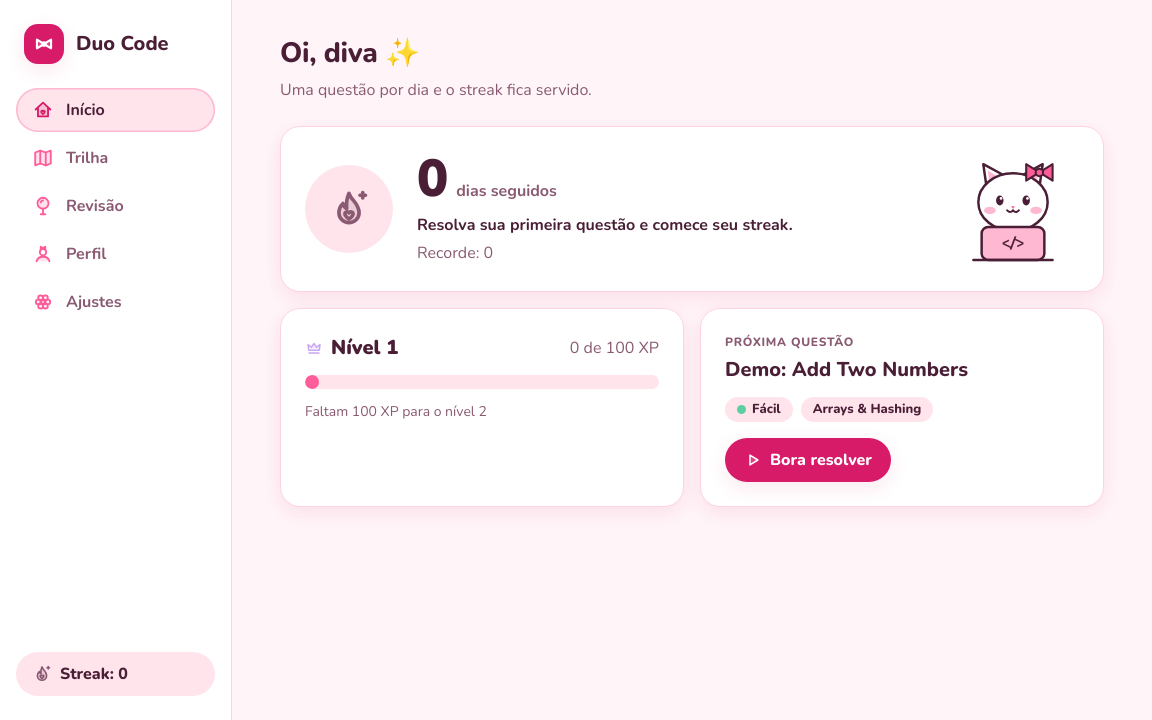
Test: navegação (001 CA-4) › cada item do menu leva à sua rota e fica destacado
Click the link "Trilha" at (70, 158), box 32,147 -> 108,169
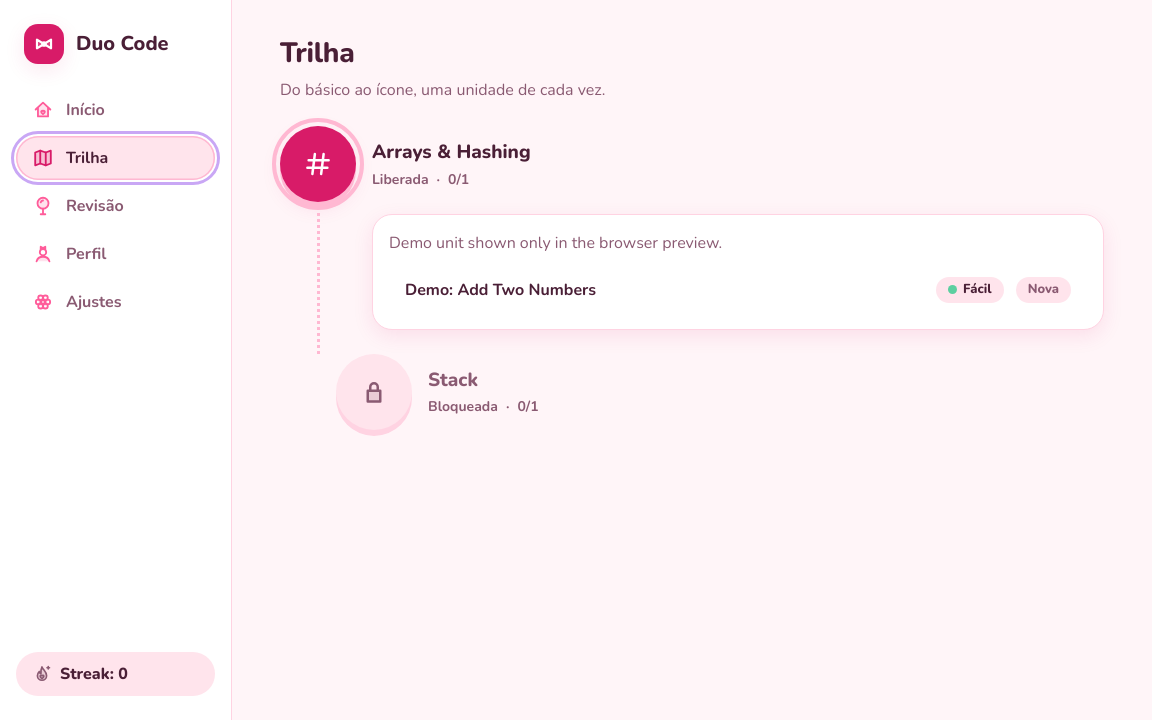
Expected: the heading reads "Trilha", 280,34 -> 354,72
Click the link "Revisão" at (78, 206), box 32,195 -> 124,217
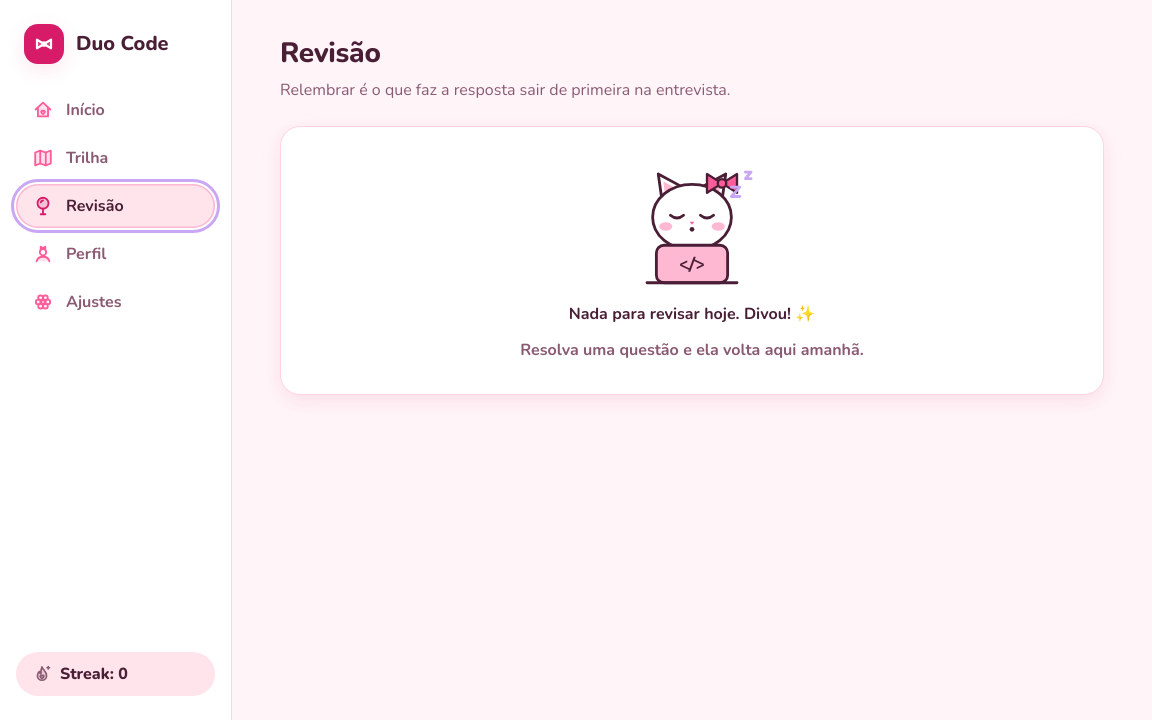
Expected: the heading reads "Revisão", 280,34 -> 381,72
Click the link "Perfil" at (69, 254), box 32,243 -> 106,265
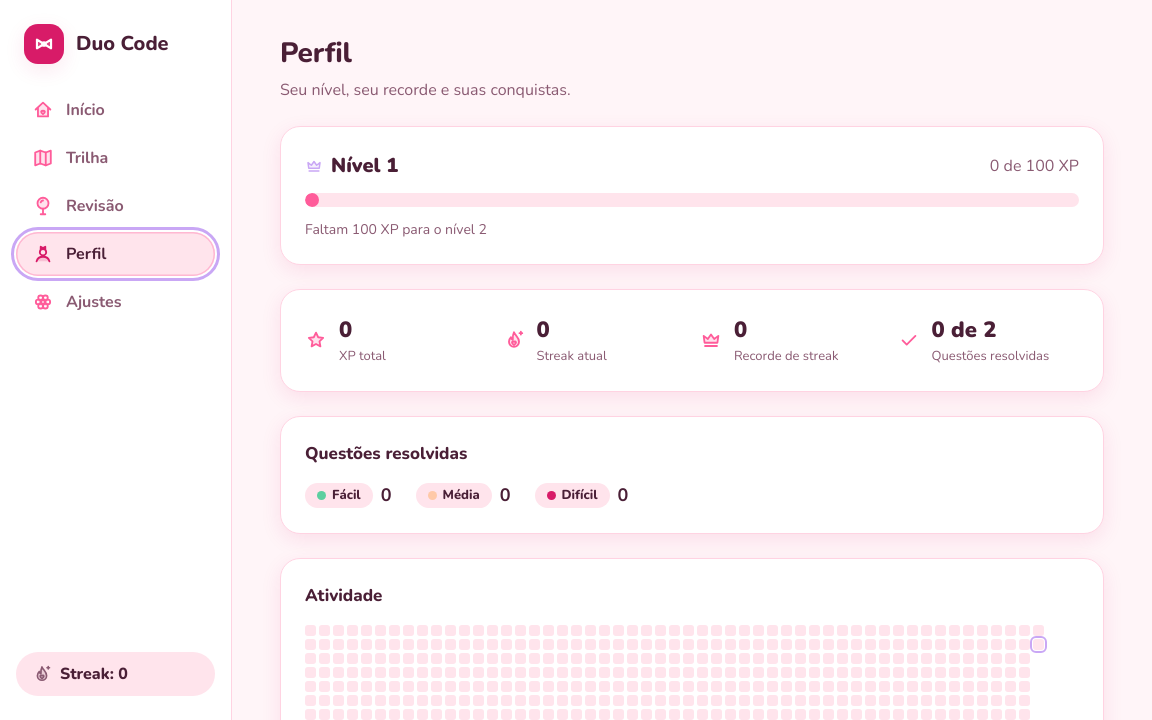
Expected: the heading "Perfil" is shown, 280,34 -> 351,72
Click the link "Ajustes" at (77, 302), box 32,291 -> 122,313
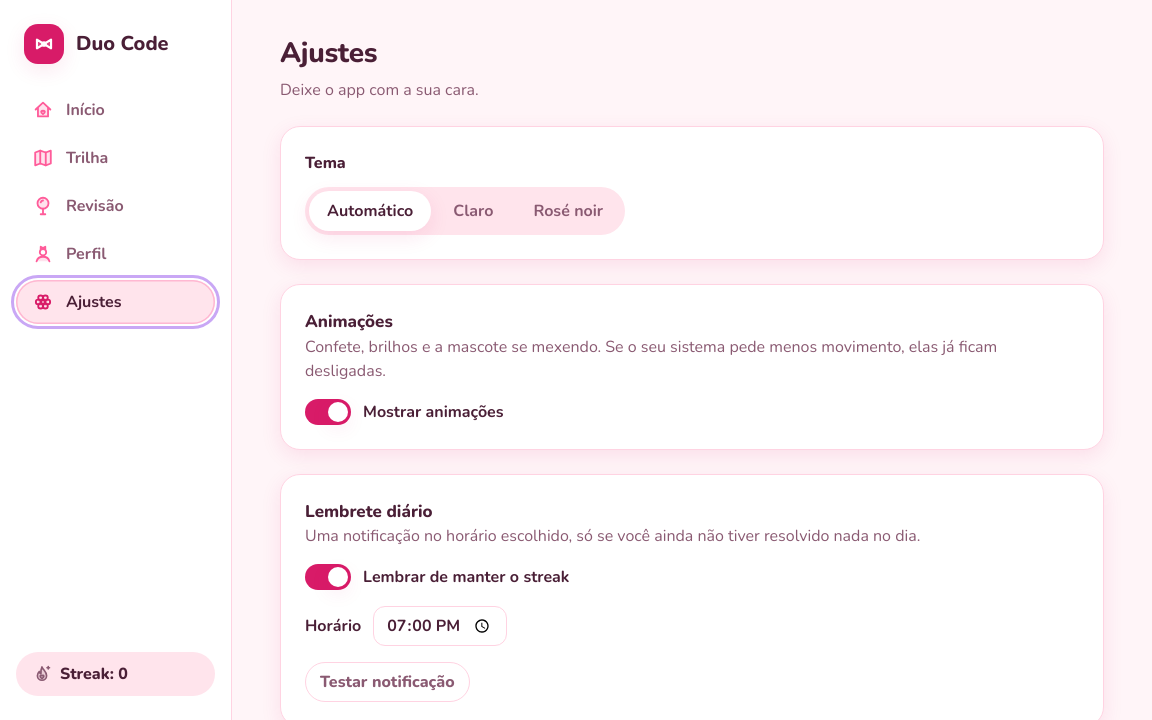
Expected: the heading "Ajustes" is shown, 280,34 -> 377,72
Click the link "Início" at (68, 110), box 32,99 -> 105,121
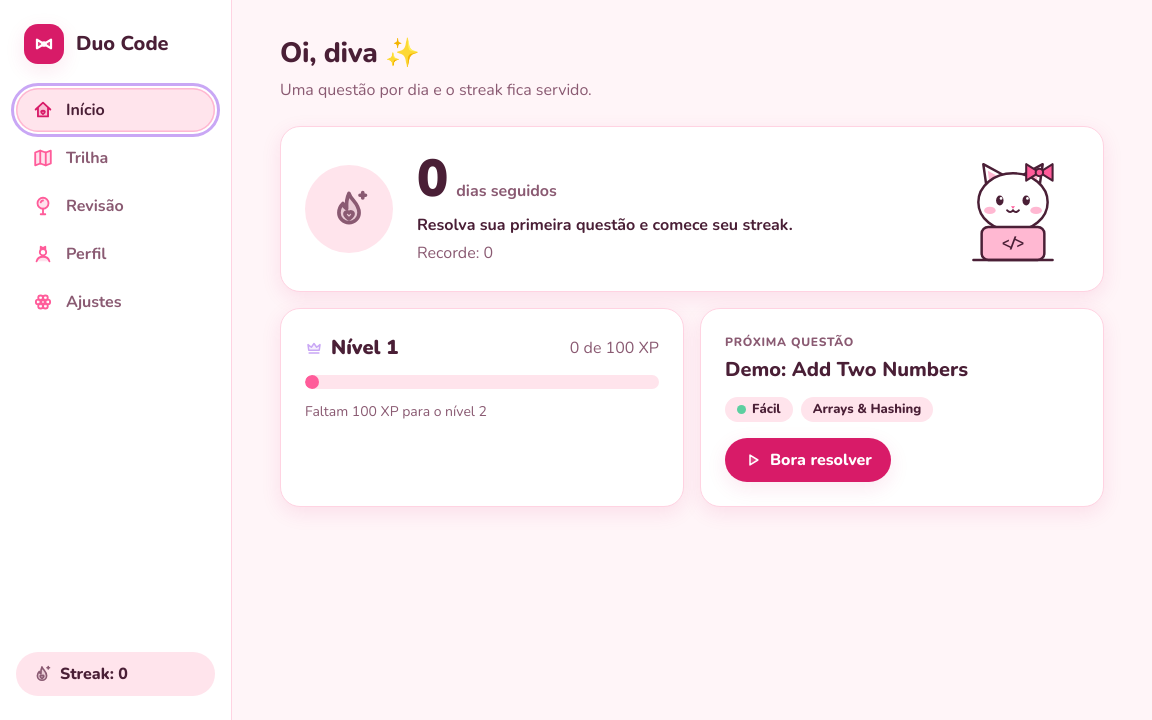
Expected: the heading "Oi, diva ✨" is shown, 280,34 -> 420,72
